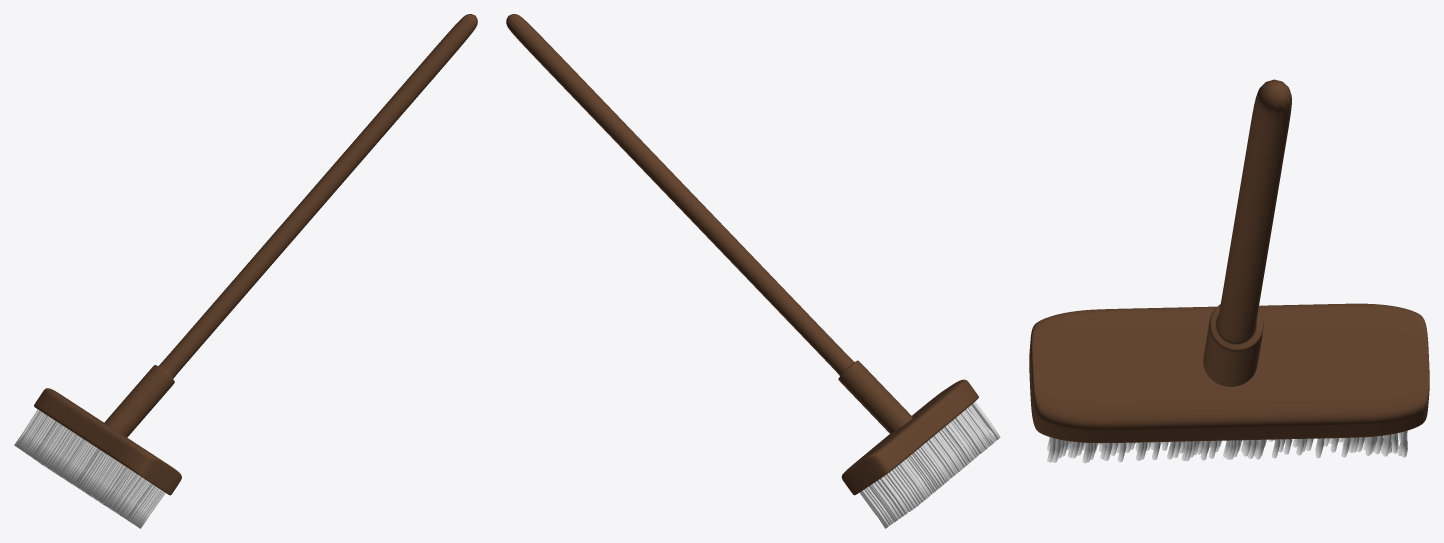
The model's file is broom.fbx.
3 renders of one model, left to right at view 1: azimuth 30°, elevation 25°; view 2: azimuth 150°, elevation 25°; view 3: azimuth 270°, elevation 25°, orthographic. The views are drawn at different scales.
Parts seen in each view (by area): view 1: Broom, BroomBottom; view 2: Broom, BroomBottom; view 3: Broom, BroomBottom.
Boxes of the visible parts, box(x1,y1,x2,y2) form: Broom: box(34, 14, 477, 495); BroomBottom: box(14, 409, 165, 528); Broom: box(506, 14, 978, 495); BroomBottom: box(859, 402, 1000, 528); Broom: box(1029, 79, 1429, 443); BroomBottom: box(1047, 430, 1407, 463).
Size of the model in its own units: 125 by 105 by 50.25.
